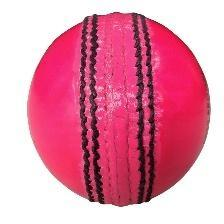Sports-Ball: (24, 14, 211, 208)
